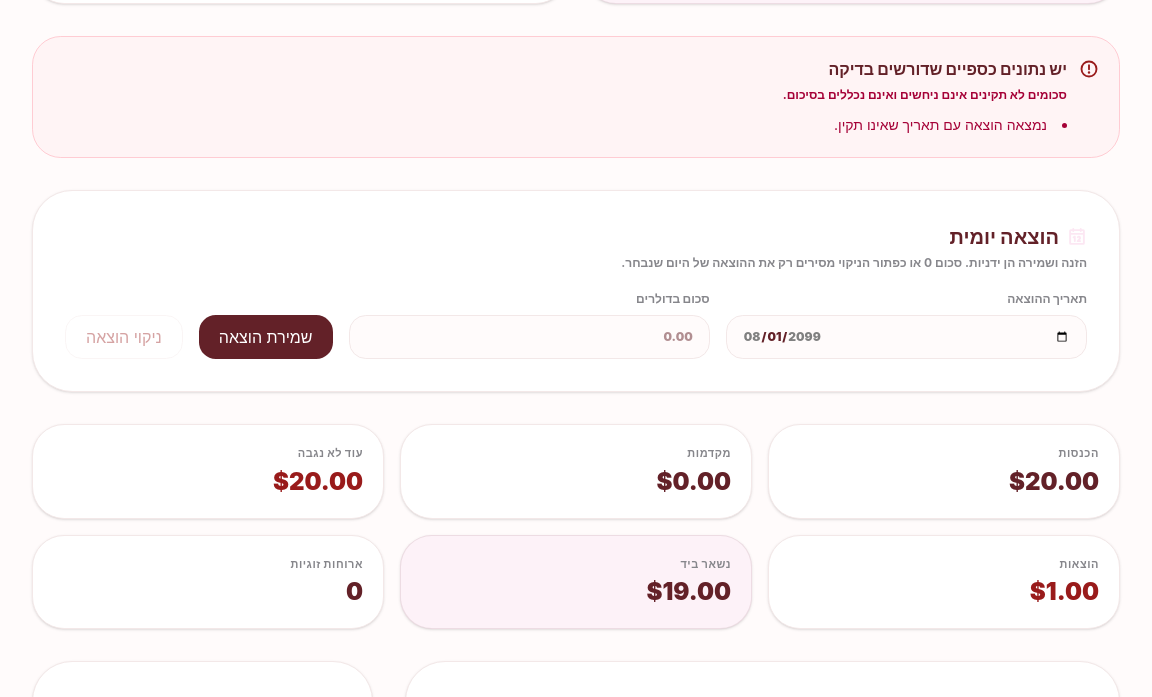
Test: FinanceScreen › persists one exact daily expense only after explicit save and preserves unknown state
(page scrolled)
Type "2099-08-12" into the date field labelled "תאריך ההוצאה" at (906,337), box [726, 315, 1087, 359]
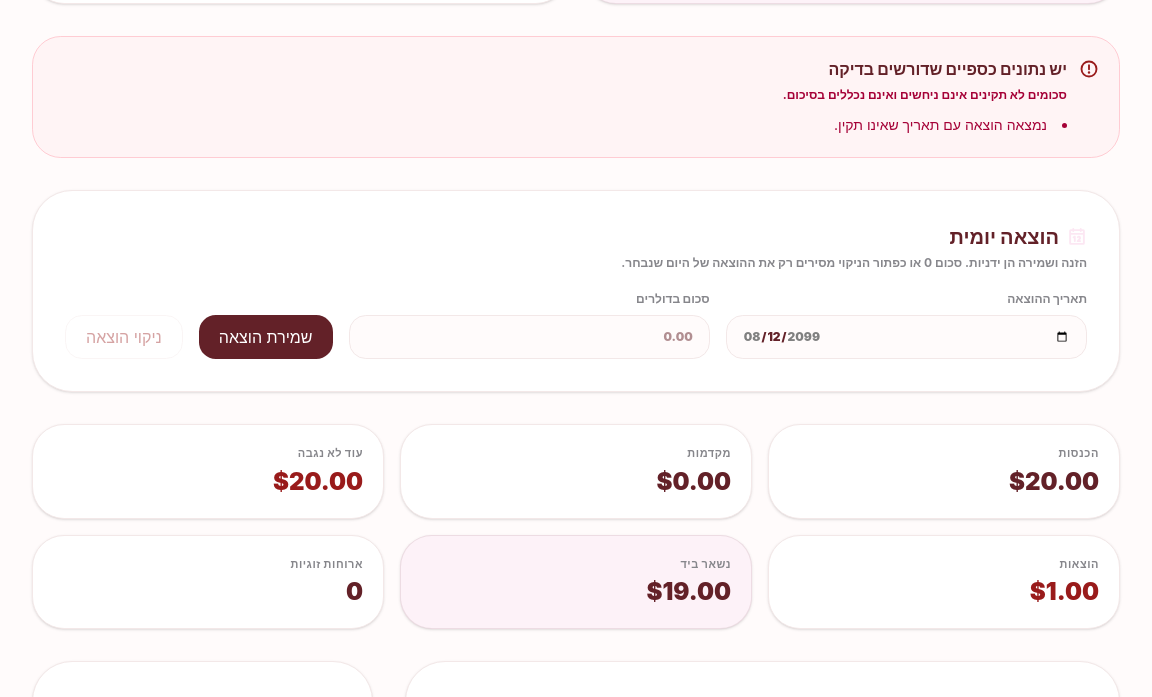
Type "12.34" into the field named "סכום ההוצאה בדולרים" at (529,337), box [348, 315, 710, 359]
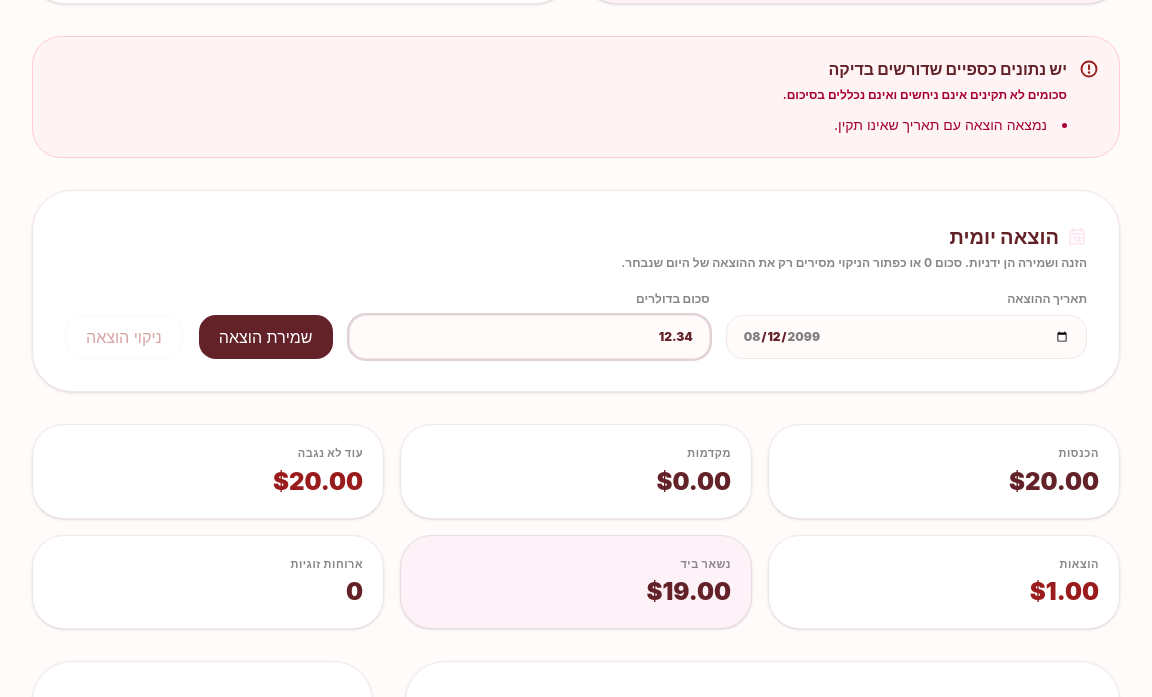
Click the button "שמירת הוצאה" at (266,337), box [199, 315, 332, 359]
(page scrolled)
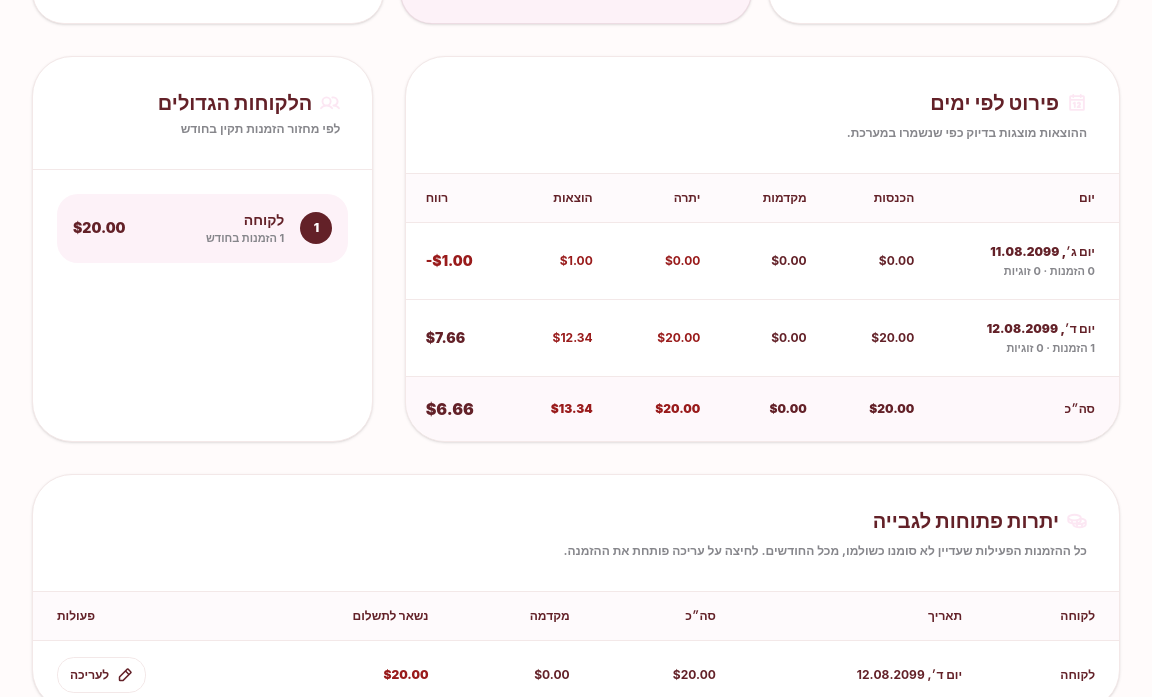
Result: the text "$12.34" is shown at [552, 330, 593, 345]
